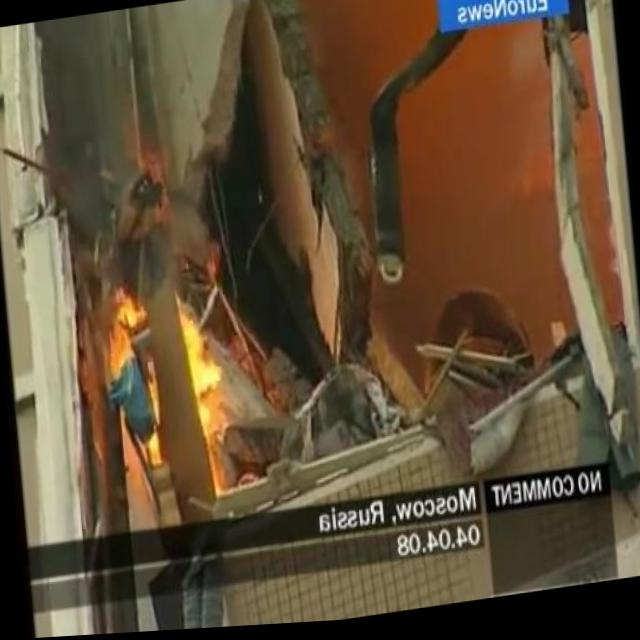fire: (102, 273, 224, 464)
